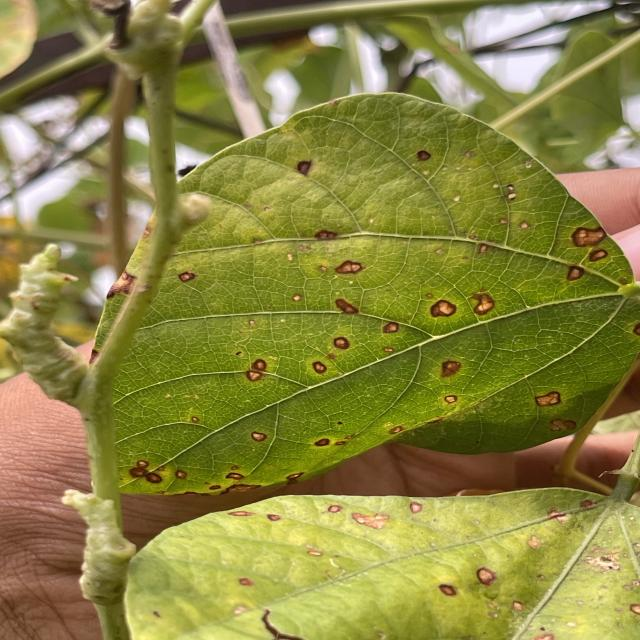Dolicos bean_cercospora leaf spot: (78, 91, 640, 491)
